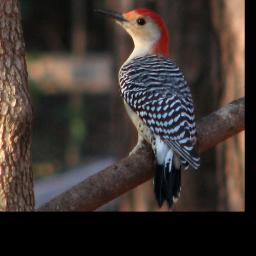Woodpecker: (91, 6, 201, 205)
